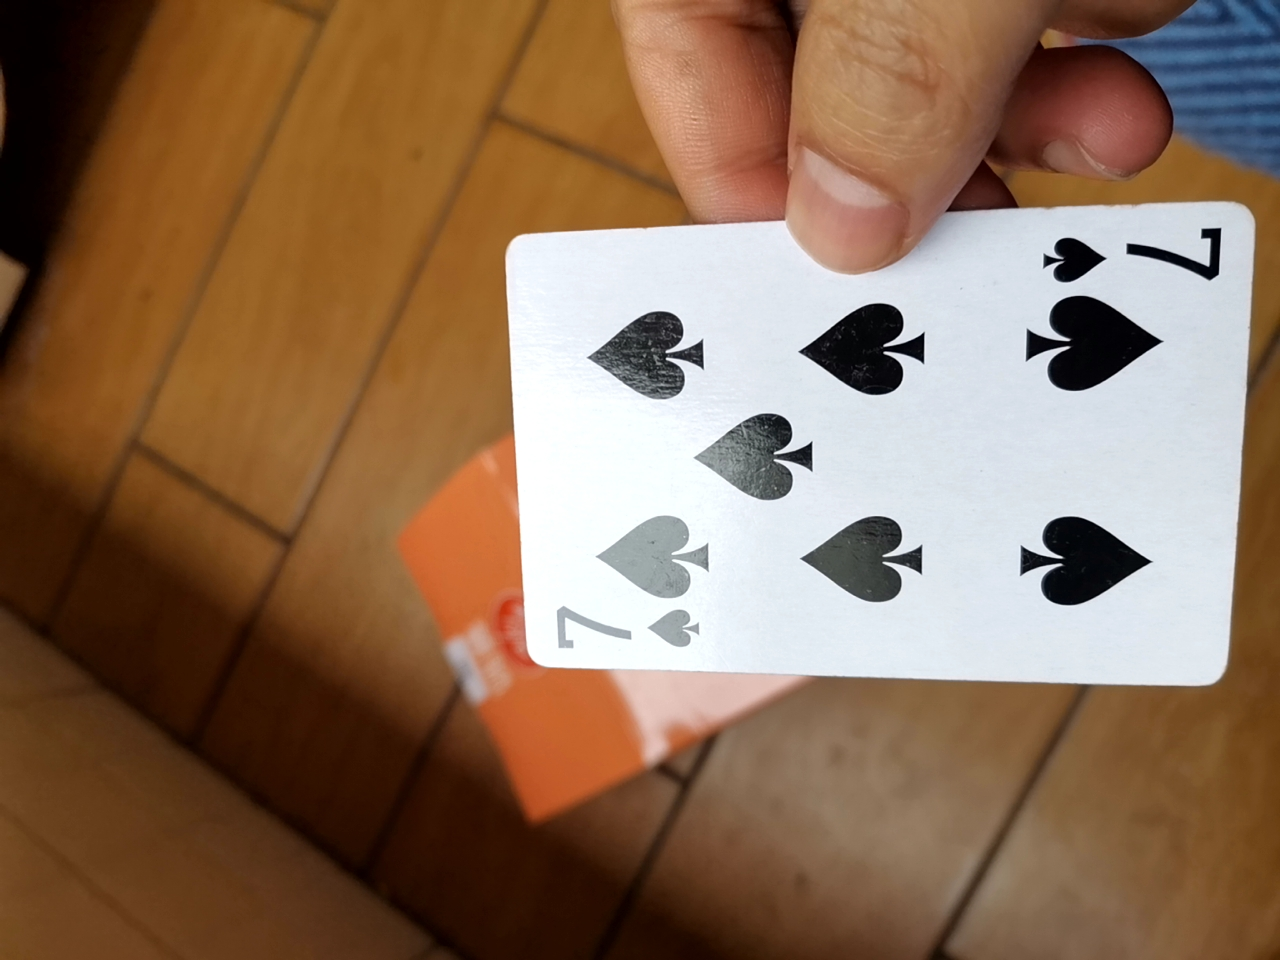ht 7: (497, 211, 1247, 701)
